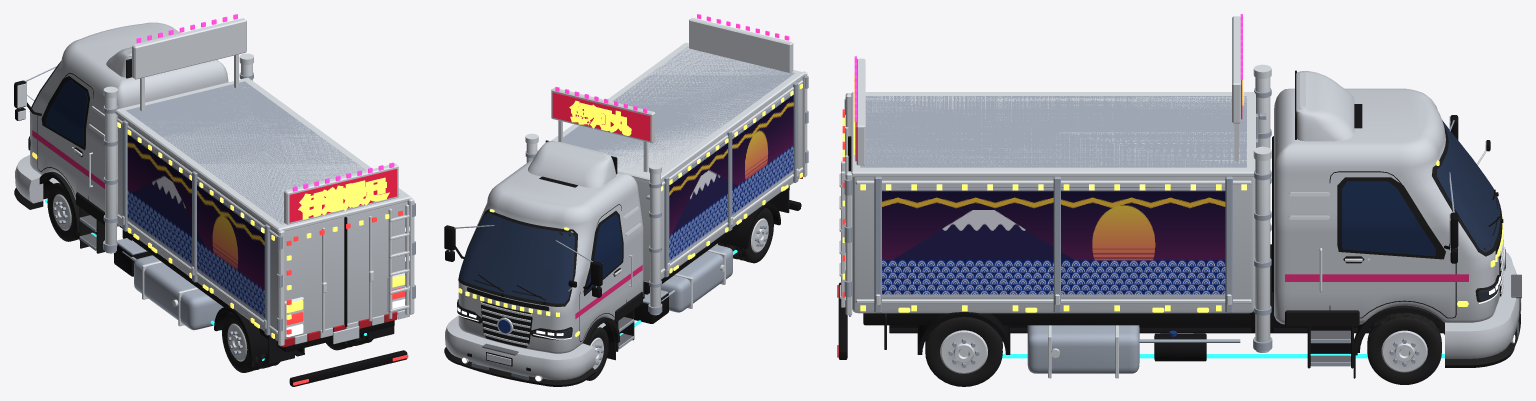
File: dekotora_truck_leve_aero.glb
3 renders of one model, left to right at view 1: azimuth 30°, elevation 25°; view 2: azimuth 150°, elevation 25°; view 3: azimuth 270°, elevation 25°, orthographic. The views are drawn at different scales.
Visible parts, largest first — view 1: truck_paint_white_panel, truck_chrome, truck_steel, truck_mural, truck_plastic_black, truck_lamp_amber, truck_plastic_trim, truck_glass, wheel_r_L_1.5_1.06, truck_andon_panel, wheel_f_L, truck_paint_white (+5 smaller); view 2: truck_paint_white_panel, truck_chrome, truck_steel, truck_mural, truck_glass_wind, truck_plastic_trim, truck_plastic_black, truck_lamp_amber, truck_andon_panel, truck_glass, wheel_r_L_1.5_1.06, wheel_f_L (+7 smaller); view 3: truck_paint_white_panel, truck_steel, truck_mural, truck_chrome, truck_plastic_black, truck_plastic_trim, truck_glass, wheel_f_R, wheel_r_R_1.5_1.06, truck_glass_wind, truck_lamp_amber, truck_paint_pink (+2 smaller).
Part boxes in pixels (x1,y1,x2,y2): truck_paint_white_panel: [15, 22, 407, 340]; truck_chrome: [17, 18, 414, 346]; truck_steel: [19, 66, 415, 335]; truck_mural: [127, 134, 264, 319]; truck_plastic_black: [14, 73, 407, 386]; truck_lamp_amber: [32, 129, 409, 338]; truck_plastic_trim: [14, 58, 131, 253]; truck_glass: [45, 80, 87, 146]; wheel_r_L_1.5_1.06: [222, 312, 266, 372]; truck_andon_panel: [289, 169, 397, 222]; wheel_f_L: [47, 183, 79, 241]; truck_paint_white: [294, 310, 409, 344]; truck_paint_white_panel: [445, 77, 802, 380]; truck_chrome: [461, 17, 807, 381]; truck_steel: [448, 46, 808, 349]; truck_mural: [669, 94, 793, 262]; truck_glass_wind: [459, 212, 574, 303]; truck_plastic_trim: [444, 140, 642, 386]; truck_plastic_black: [444, 176, 800, 371]; truck_lamp_amber: [458, 84, 802, 336]; truck_andon_panel: [552, 92, 650, 140]; truck_glass: [587, 214, 622, 291]; wheel_r_L_1.5_1.06: [733, 208, 773, 263]; wheel_f_L: [586, 327, 608, 380]; truck_paint_white_panel: [852, 71, 1519, 358]; truck_steel: [844, 88, 1456, 373]; truck_mural: [882, 187, 1225, 297]; truck_chrome: [839, 16, 1514, 378]; truck_plastic_black: [838, 104, 1520, 361]; truck_plastic_trim: [1285, 70, 1520, 368]; truck_glass: [1342, 181, 1435, 256]; wheel_f_R: [1367, 312, 1441, 384]; wheel_r_R_1.5_1.06: [925, 317, 1002, 386]; truck_glass_wind: [1436, 120, 1500, 252]; truck_lamp_amber: [842, 43, 1503, 312]; truck_paint_pink: [1285, 274, 1468, 281].
Size of the model in its own units: 3.31 by 4.51 by 9.17.
Materials: 25 (8 with a texture image).
